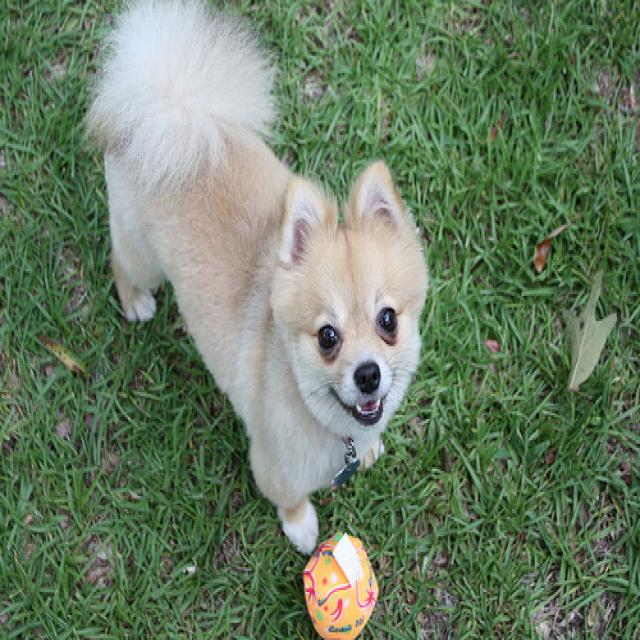dog-pomeranian: (77, 2, 438, 561)
